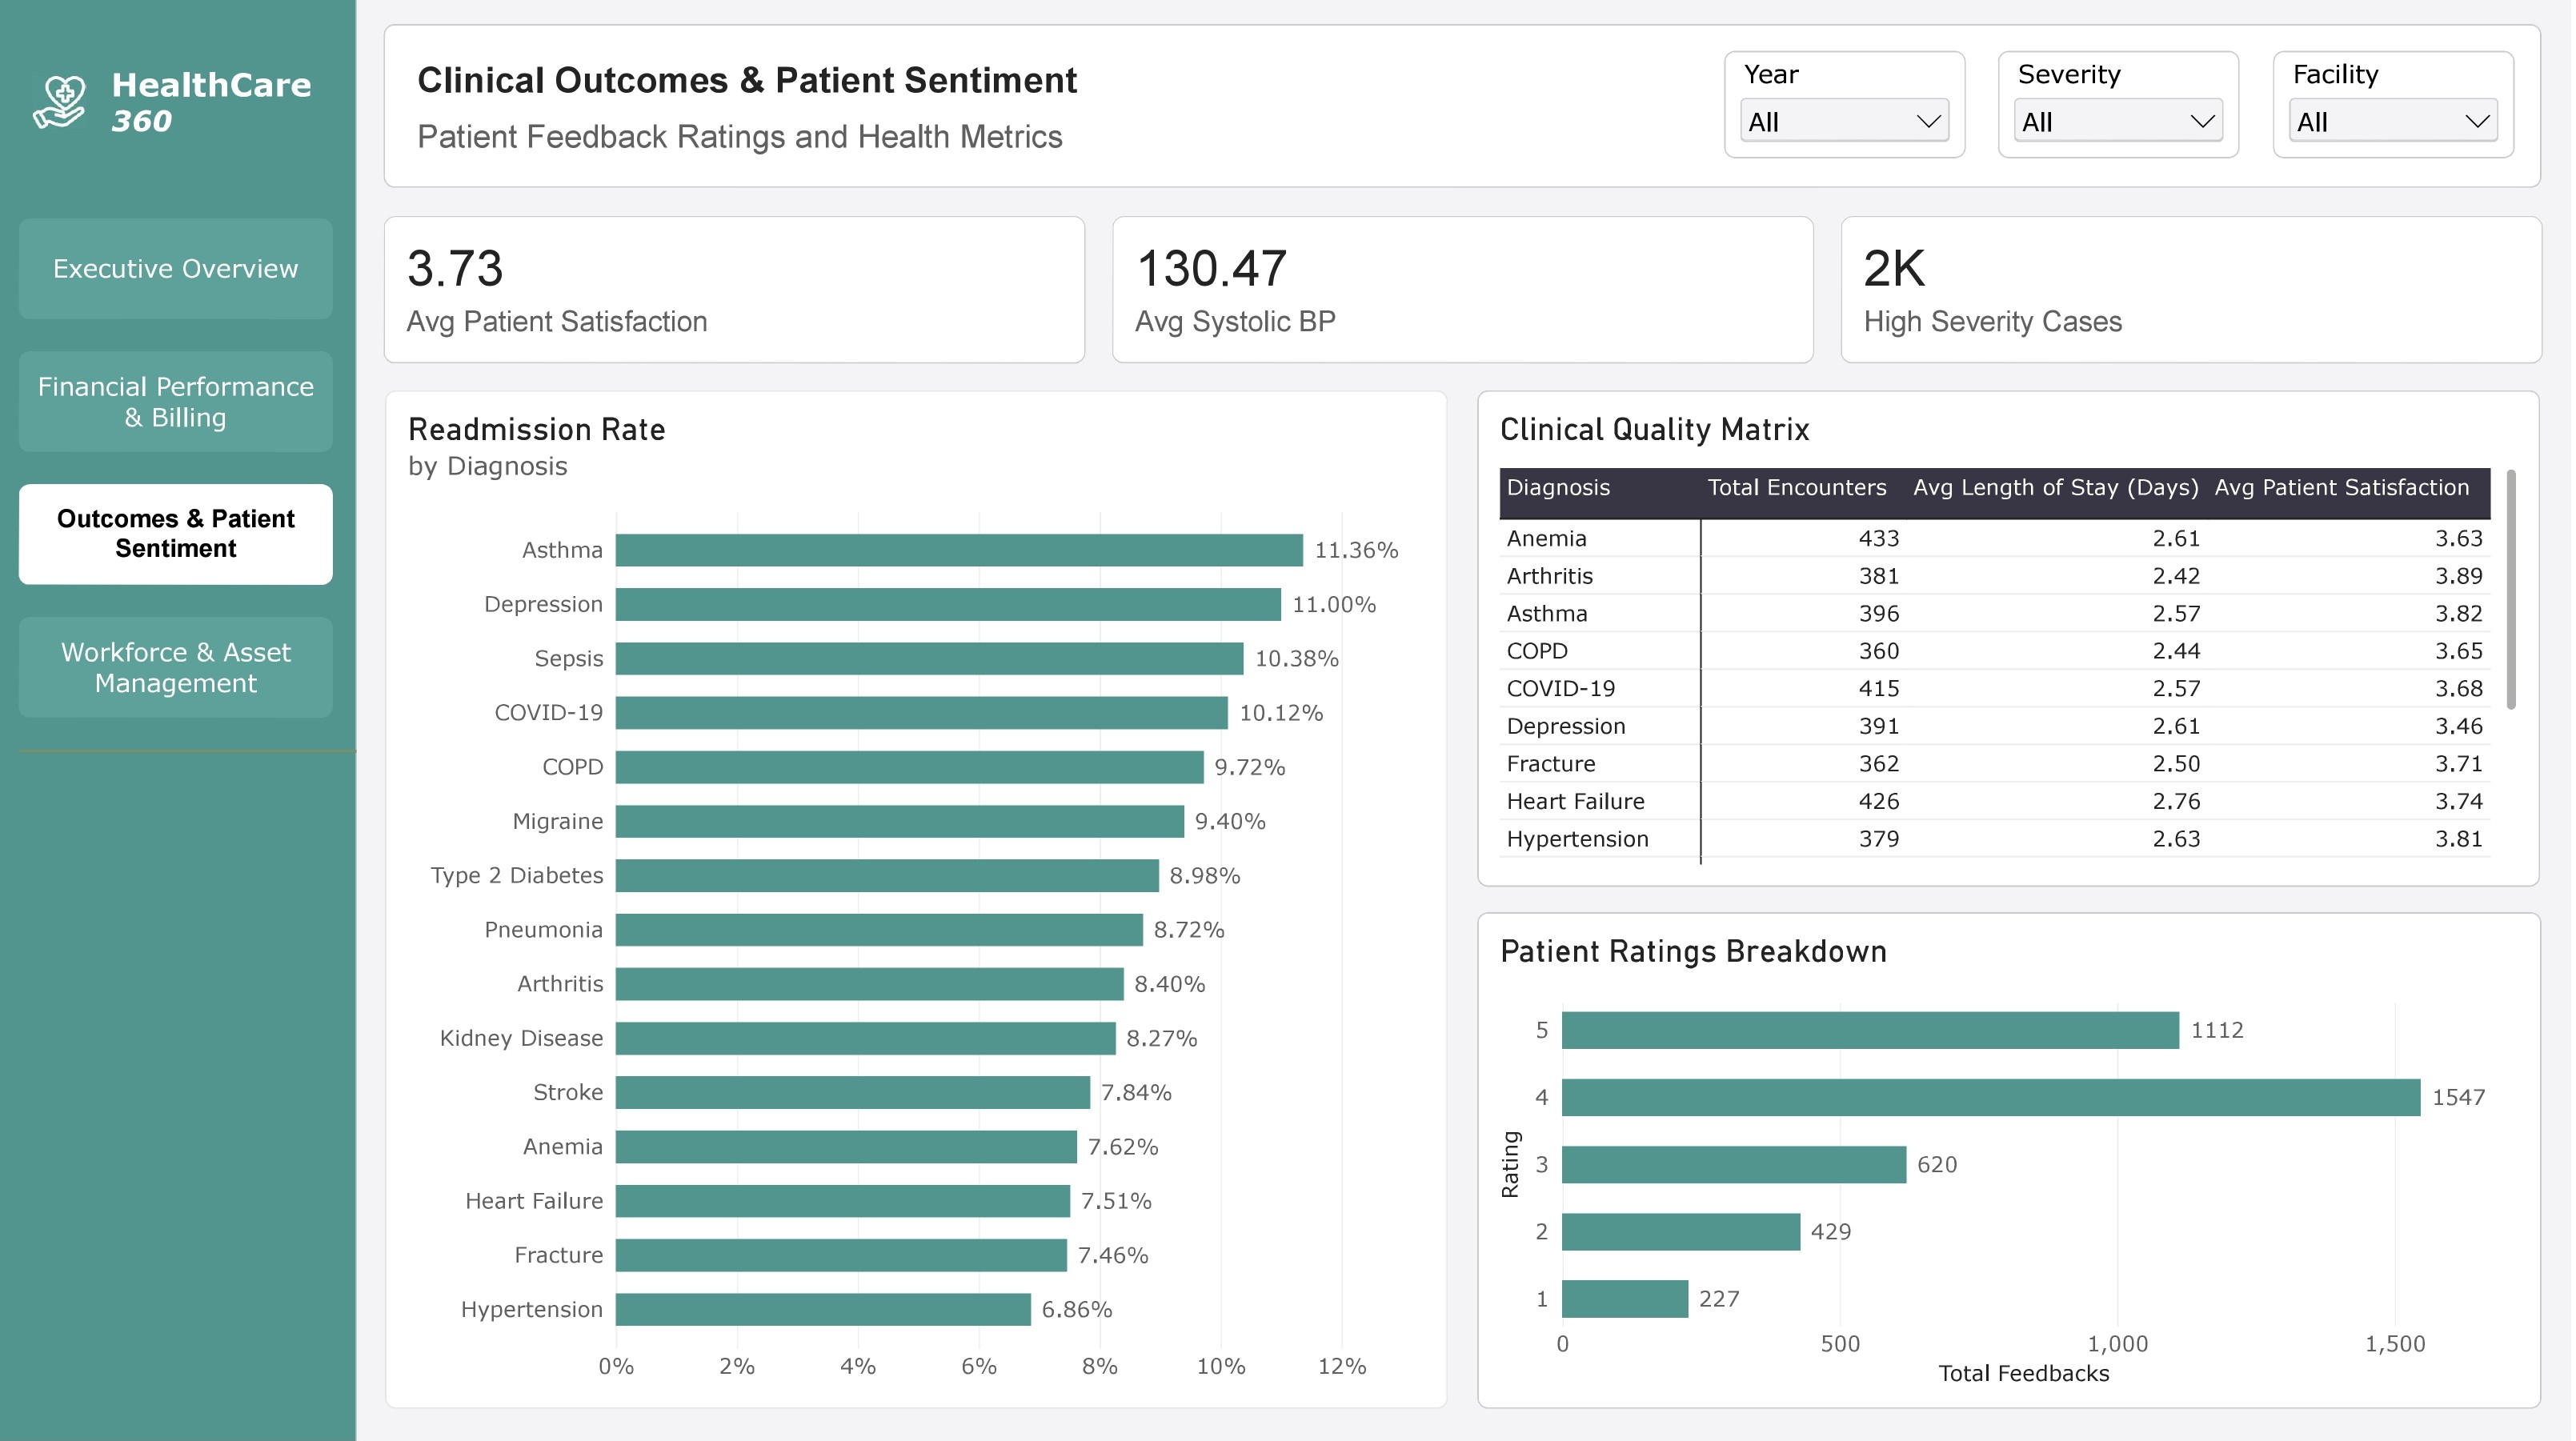

This screenshot's page, from the dashboard's own definition file:
{"tool":"powerbi","page":{"name":"Outcomes & Patient Sentiment","canvas":[1920,1080],"ordinal":2},"visuals":[{"type":"shape","box":[290,22.5,1607.5,122.5],"z":0},{"type":"textbox","box":[86.4,53.2,168.1,79.5],"z":0,"group":"g1"},{"type":"shape","box":[0,0,270,1080],"z":1000},{"type":"group","id":"g1","title":"Group 1","box":[86.4,53.2,168.1,79.5],"z":2000,"group":"g2"},{"type":"cardVisual","fields":{"Data":["_Measures.Avg Patient Satisfaction","_Measures.Avg Systolic BP","_Measures.High Severity Cases"]},"box":[290,166,1610,110],"z":2000},{"type":"shape","box":[17.7,540,252.3,50],"z":4000},{"type":"textbox","box":[315,50,515,42.5],"z":6000},{"type":"textbox","box":[315,92.5,662.5,35],"z":7000},{"type":"slicer","fields":{"Values":["Dim_Date.Year"]},"box":[1288.5,43.3,180,80],"z":8000},{"type":"slicer","fields":{"Values":["Dim_Diagnosis.Severity"]},"box":[1493,43.3,180,80],"z":9000},{"type":"slicer","fields":{"Values":["Dim_Facilities.FacilityName"]},"box":[1697.5,43.3,180,80],"z":10000},{"type":"pivotTable","title":"Clinical Quality Matrix","fields":{"Rows":["Dim_Diagnosis.DiagnosisDescription"],"Values":["_Measures.Total Encounters","_Measures.Avg Length of Stay","_Measures.Avg Patient Satisfaction"]},"box":[1104.7,295.9,792.5,370],"z":12000},{"type":"barChart","title":"Patient Ratings Breakdown","fields":{"Category":["Dim_PatientFeedback.Rating"],"Y":["CountNonNull(Dim_PatientFeedback.FeedbackID)"]},"box":[1105,685,792.5,370],"z":13000},{"type":"clusteredBarChart","fields":{"Category":["Dim_Diagnosis.DiagnosisDescription"],"Y":["_Measures.Readmission Rate"]},"box":[291.1,295.9,792,758.7],"z":14000},{"type":"pageNavigator","box":[18.2,168.1,233.9,372.5],"z":14001},{"type":"group","id":"g2","title":"Group 2","box":[18.8,53.2,235.6,79.5],"z":14002},{"type":"image","box":[18.8,62.3,59.1,38.6],"z":16000,"group":"g2"}]}

Visuals, with their boxes on the page's 1920x1080 design canvas (x1, y1, x2, y2). These are canvas units, not pixel positions in the 2576x1441 screenshot, which may show the page scaled, cropped or inside an application window:
shape: BBox(290, 22, 1898, 145)
textbox: BBox(86, 53, 254, 133)
shape: BBox(0, 0, 270, 1080)
"Group 1" group: BBox(86, 53, 254, 133)
cardVisual - _Measures.Avg Patient Satisfaction x _Measures.Avg Systolic BP: BBox(290, 166, 1900, 276)
shape: BBox(18, 540, 270, 590)
textbox: BBox(315, 50, 830, 92)
textbox: BBox(315, 92, 978, 128)
slicer - Dim_Date.Year: BBox(1288, 43, 1468, 123)
slicer - Dim_Diagnosis.Severity: BBox(1493, 43, 1673, 123)
slicer - Dim_Facilities.FacilityName: BBox(1698, 43, 1878, 123)
"Clinical Quality Matrix" pivotTable: BBox(1105, 296, 1897, 666)
"Patient Ratings Breakdown" barChart: BBox(1105, 685, 1898, 1055)
clusteredBarChart - Dim_Diagnosis.DiagnosisDescription x _Measures.Readmission Rate: BBox(291, 296, 1083, 1055)
pageNavigator: BBox(18, 168, 252, 541)
"Group 2" group: BBox(19, 53, 254, 133)
image: BBox(19, 62, 78, 101)
